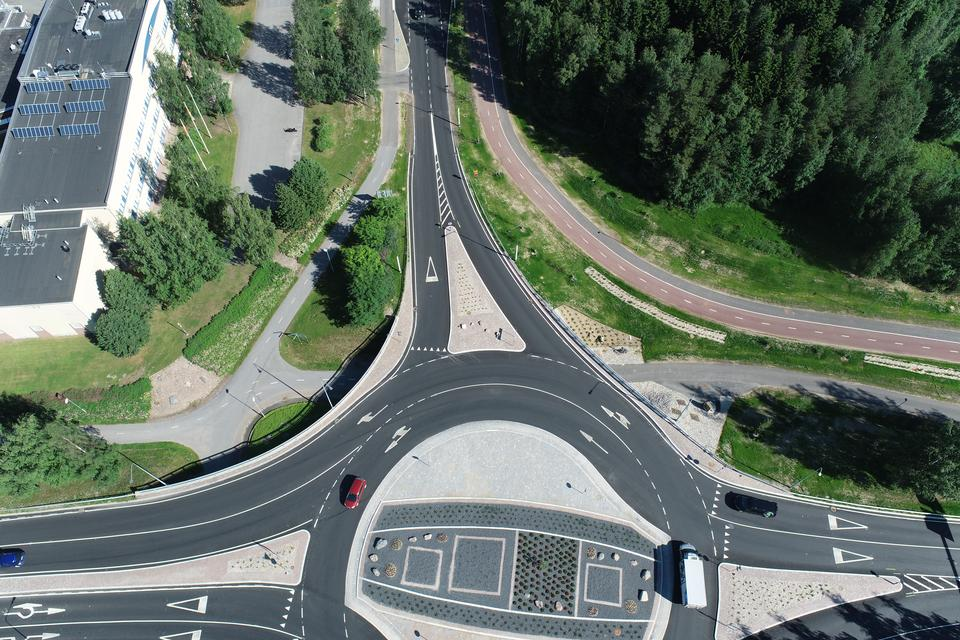intersection: (363, 58, 462, 109)
roundabout: (262, 297, 782, 640)
